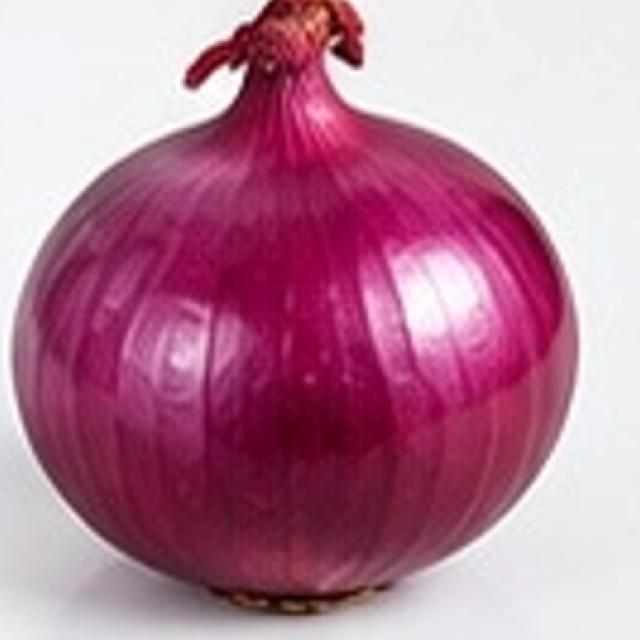healthy: (0, 0, 640, 640), (13, 0, 574, 609)
